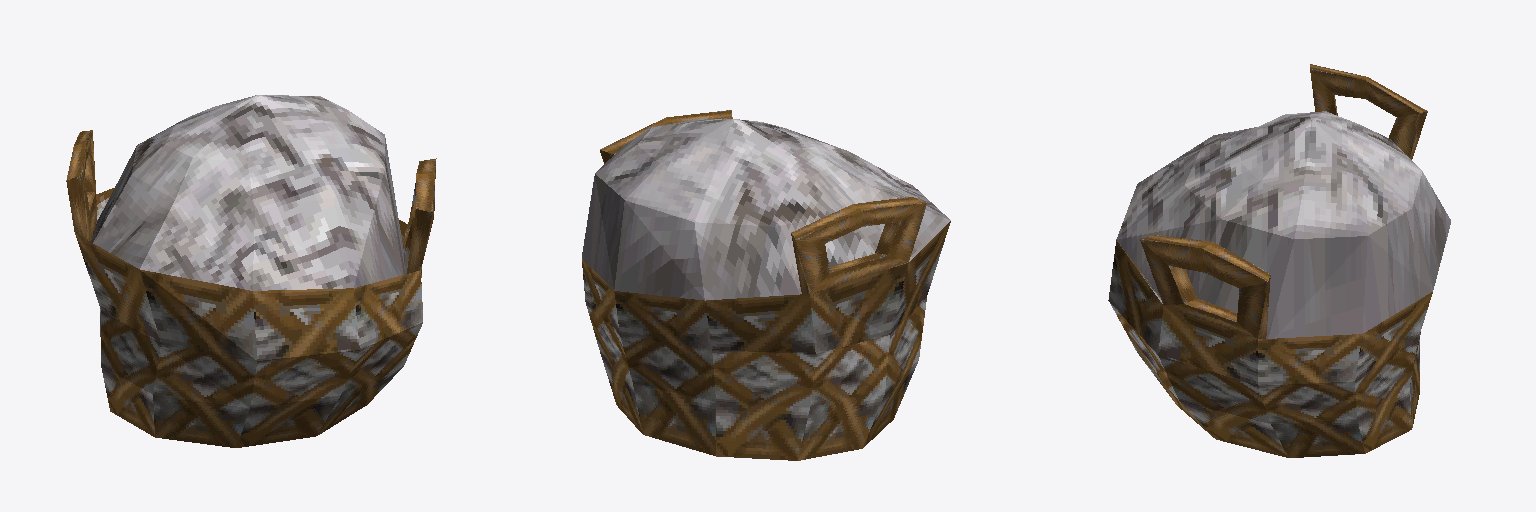
The picture shows the model from 3 angles: view 1: azimuth 30°, elevation 25°; view 2: azimuth 150°, elevation 25°; view 3: azimuth 270°, elevation 25°; orthographic projection.
Visible parts, largest first — view 1: part1_texture1.002, part0_texture0.003; view 2: part1_texture1.002, part0_texture0.003; view 3: part0_texture0.003, part1_texture1.002.
Boxes of the visible parts, <box> form: part1_texture1.002: <box>66,130,436,447</box>; part0_texture0.003: <box>91,95,404,290</box>; part1_texture1.002: <box>582,110,950,460</box>; part0_texture0.003: <box>582,118,950,300</box>; part0_texture0.003: <box>1116,111,1450,338</box>; part1_texture1.002: <box>1108,64,1432,457</box>.
Bounding box in the file's own units: 0.6016 × 0.4766 × 0.5117.
2 materials, 2 textured.